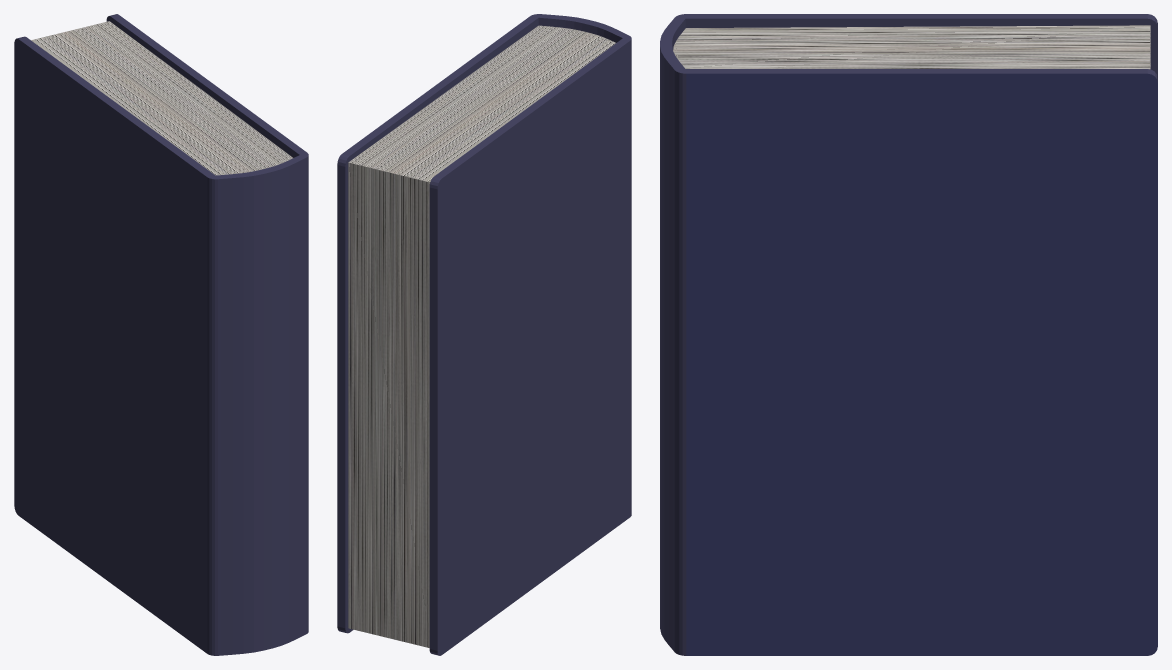
File: NewBook.gltf
3 views of the same model, side by side, from view 1: azimuth 30°, elevation 25°; view 2: azimuth 150°, elevation 25°; view 3: azimuth 270°, elevation 25° (orthographic). The views are drawn at different scales.
Parts seen in each view (by area): view 1: Cube; view 2: Cube; view 3: Cube.
Boxes of the visible parts, left/top/right/bottom form: Cube: left=14, top=14, right=308, bottom=655; Cube: left=337, top=14, right=631, bottom=655; Cube: left=660, top=14, right=1157, bottom=655.
Bounding box in the file's own units: 0.4611 × 2.1 × 1.62.
3 materials, 1 textured.
